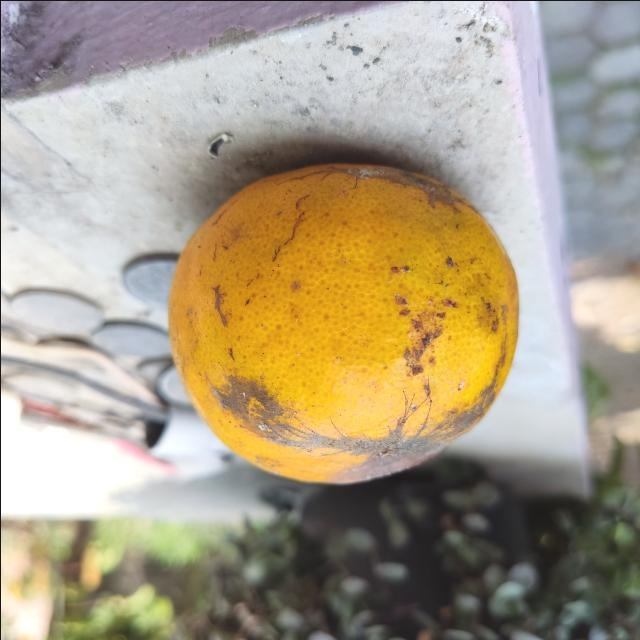agrume: (164, 160, 518, 485)
